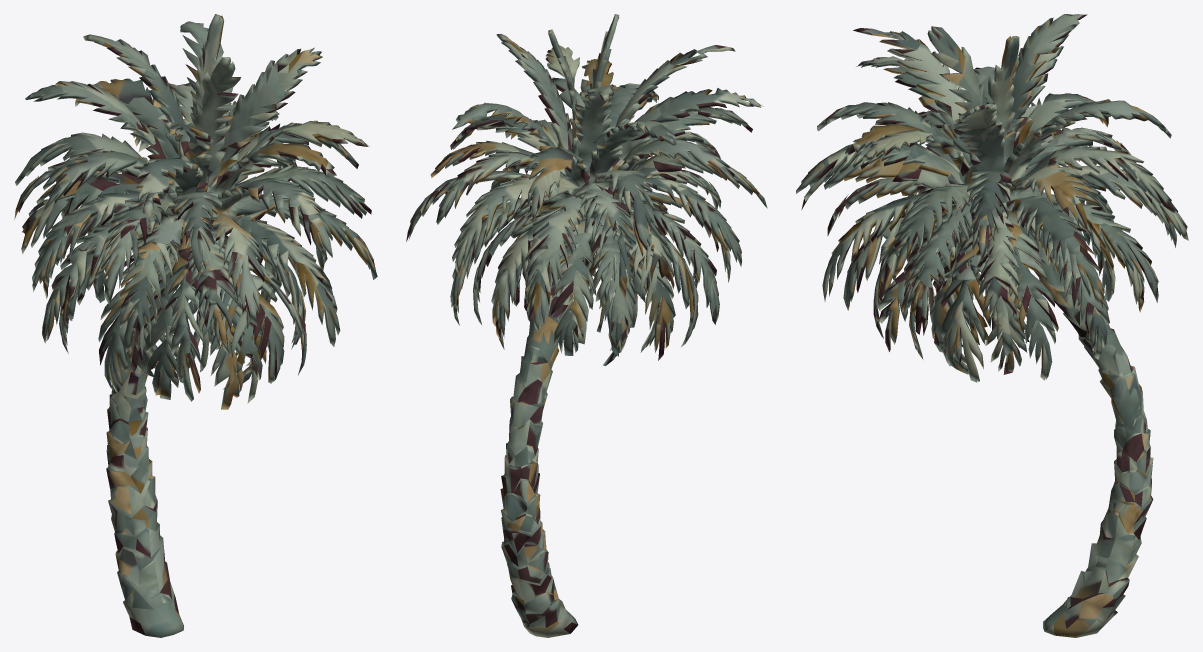
Rendered from Tree 1.fbx.
3 renders of one model, left to right at view 1: azimuth 30°, elevation 25°; view 2: azimuth 150°, elevation 25°; view 3: azimuth 270°, elevation 25°, orthographic. The views are drawn at different scales.
Parts seen in each view (by area): view 1: tripo_node_c2dec645; view 2: tripo_node_c2dec645; view 3: tripo_node_c2dec645.
Boxes of the visible parts, box(x1,y1,x2,y2) form: tripo_node_c2dec645: box(14, 14, 377, 637); tripo_node_c2dec645: box(406, 14, 767, 637); tripo_node_c2dec645: box(796, 14, 1188, 637).
Size of the model in its own units: 0.5378 by 0.9994 by 0.5847.
